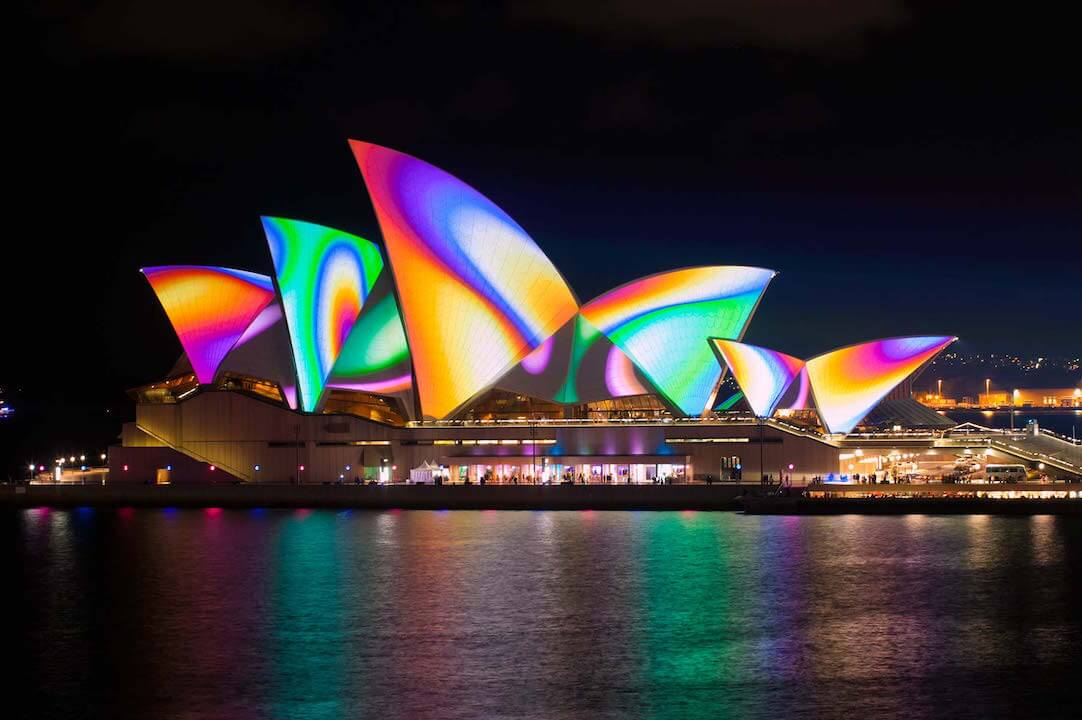opera house: (82, 113, 999, 478)
